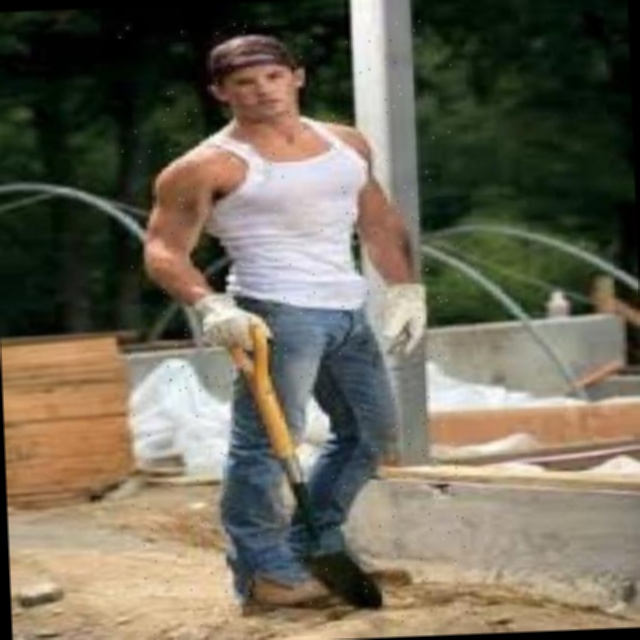boots: (223, 558, 319, 607)
gloves: (175, 279, 269, 360), (363, 273, 439, 352)
